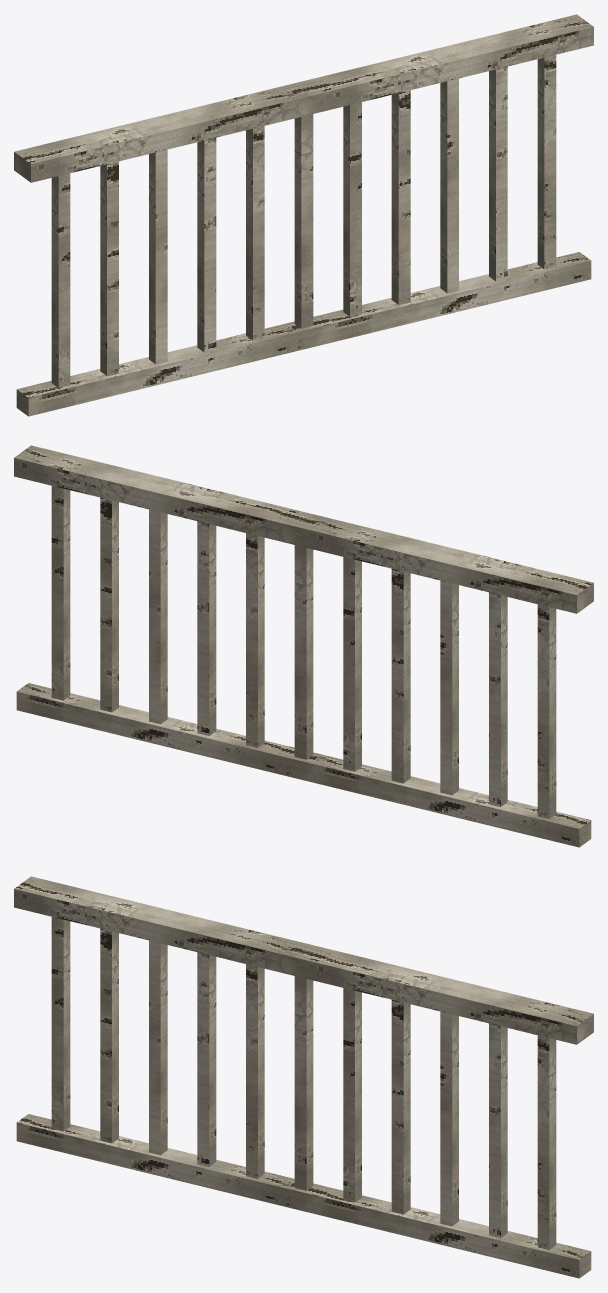
File: house_porch_railing.glb
3 views of the same model, one above another, from view 1: azimuth 30°, elevation 25°; view 2: azimuth 150°, elevation 25°; view 3: azimuth 330°, elevation 25° (orthographic).
Parts seen in each view (by area): view 1: house_porch_railing; view 2: house_porch_railing; view 3: house_porch_railing.
Boxes of the visible parts, box(x1,y1,x2,y2) form: house_porch_railing: box(14, 14, 593, 416); house_porch_railing: box(14, 445, 593, 847); house_porch_railing: box(14, 876, 593, 1278).
Size of the model in its own units: 1.9 by 0.82 by 0.1.
1 material, 1 textured.
